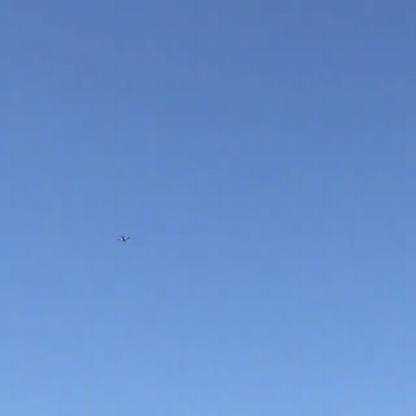CIV_Plane: (119, 236, 131, 244)
